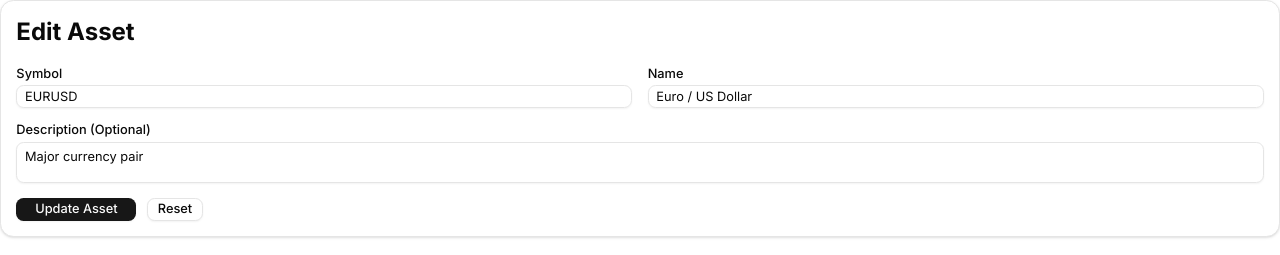
AssetForm › resets form when reset button is clicked
Change the symbol value
Replace the text in the field labelled "Symbol" with "CHANGED" at (324, 97), box [16, 86, 632, 108]
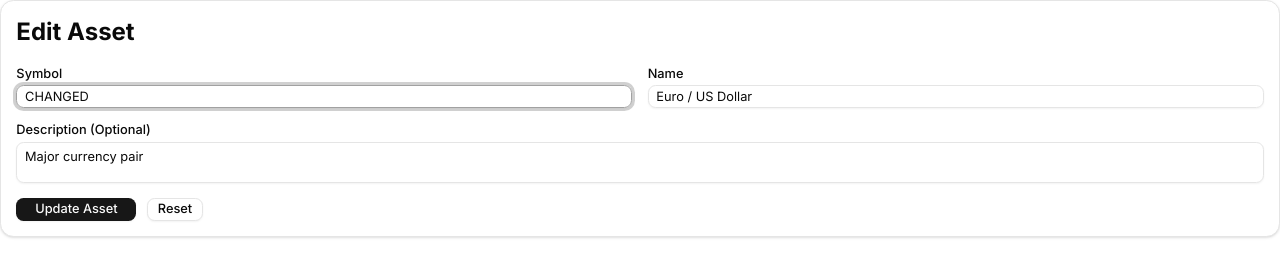
Reset form
Click the button "Reset" at (175, 210), box [147, 198, 204, 221]
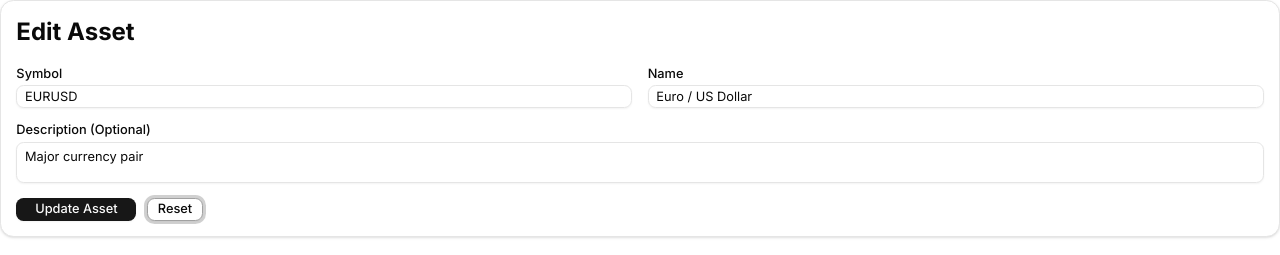
Now the field labelled "Symbol" holds "EURUSD", box [16, 86, 632, 108]
